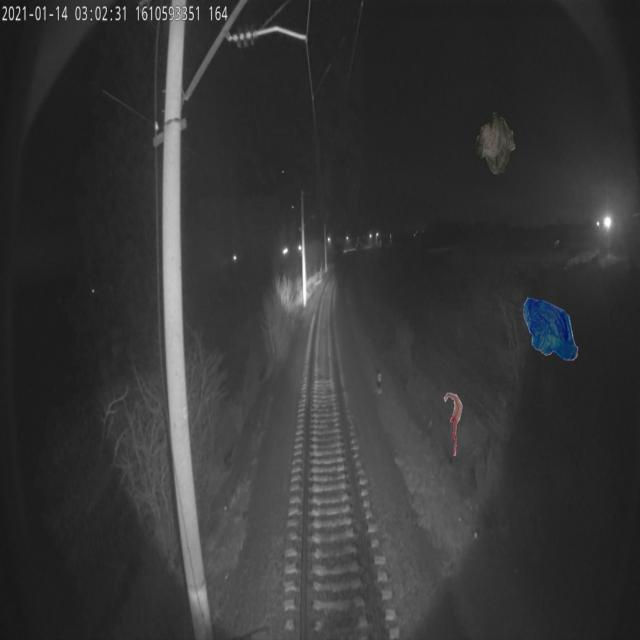floating object: (443, 392, 462, 456)
plastic bag: (523, 296, 578, 361), (475, 111, 516, 175)
